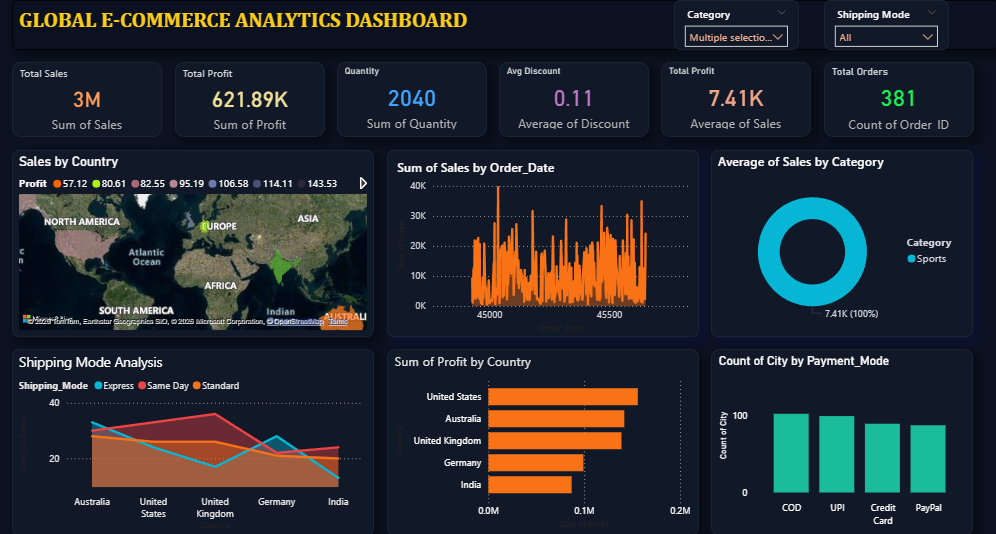

Layout of this report page (visuals, bound fields, positions):
{"tool":"powerbi","page":{"name":"Page 1","canvas":[1280,720],"ordinal":0},"visuals":[{"type":"textbox","box":[16,0,1264,64],"z":0},{"type":"card","title":"Total Sales","fields":{"Values":["Sum(Sales_Data.Sales)"]},"box":[16,80,192,96],"z":1000},{"type":"card","title":"Total Profit","fields":{"Values":["Sum(Sales_Data.Profit)"]},"box":[224,80,192,96],"z":2000},{"type":"card","title":"Total Profit","fields":{"Values":["Sum(Sales_Data.Profit)"]},"box":[848,80,192,96],"z":3000},{"type":"card","title":"Avg Discount","fields":{"Values":["Avg(Sales_Data.Discount)"]},"box":[640,80,192,96],"z":4000},{"type":"card","title":"Total Orders","fields":{"Values":["CountNonNull(Sales_Data.Order_ID)"]},"box":[1056,80,192,96],"z":5000},{"type":"card","title":"Quantity","fields":{"Values":["Sum(Sales_Data.Quantity)"]},"box":[432,80,192,96],"z":6000},{"type":"lineChart","fields":{"Category":["Sales_Data.Order_Date"],"Y":["Sum(Sales_Data.Sales)"]},"box":[496,192,400,240],"z":7000},{"type":"donutChart","fields":{"Category":["Sales_Data.Category"],"Y":["Avg(Sales_Data.Sales)"]},"box":[912,192,336,240],"z":8000},{"type":"areaChart","title":"Shipping Mode Analysis","fields":{"Y":["CountNonNull(Sales_Data.Sales)"],"Category":["Sales_Data.Country"],"Series":["Sales_Data.Shipping_Mode"]},"box":[16,448,464,240],"z":9000},{"type":"barChart","fields":{"Category":["Sales_Data.Country"],"Y":["Sum(Sales_Data.Profit)"]},"box":[496,448,400,240],"z":10000},{"type":"slicer","fields":{"Values":["Sales_Data.Category"]},"box":[864,0,160,64],"z":11000},{"type":"slicer","fields":{"Values":["Sales_Data.Shipping_Mode"]},"box":[1056,0,160,64],"z":12000},{"type":"lineStackedColumnComboChart","fields":{"Category":["Sales_Data.Payment_Mode"],"Y":["CountNonNull(Sales_Data.City)"]},"box":[912,448,336,240],"z":13000},{"type":"filledMap","title":"Sales by Country","fields":{"Category":["Sales_Data.Country"],"Series":["Sales_Data.Profit"]},"box":[16,192,464,240],"z":14000}]}

Visuals, with their boxes on the page's 1280x720 design canvas (x1, y1, x2, y2). These are canvas units, not pixel positions in the 996x534 screenshot, which may show the page scaled, cropped or inside an application window:
textbox: box(16, 0, 1280, 64)
"Total Sales" card: box(16, 80, 208, 176)
"Total Profit" card: box(224, 80, 416, 176)
"Total Profit" card: box(848, 80, 1040, 176)
"Avg Discount" card: box(640, 80, 832, 176)
"Total Orders" card: box(1056, 80, 1248, 176)
"Quantity" card: box(432, 80, 624, 176)
lineChart - Sales_Data.Order_Date x Sum(Sales_Data.Sales): box(496, 192, 896, 432)
donutChart - Sales_Data.Category x Avg(Sales_Data.Sales): box(912, 192, 1248, 432)
"Shipping Mode Analysis" areaChart: box(16, 448, 480, 688)
barChart - Sales_Data.Country x Sum(Sales_Data.Profit): box(496, 448, 896, 688)
slicer - Sales_Data.Category: box(864, 0, 1024, 64)
slicer - Sales_Data.Shipping_Mode: box(1056, 0, 1216, 64)
lineStackedColumnComboChart - Sales_Data.Payment_Mode x CountNonNull(Sales_Data.City): box(912, 448, 1248, 688)
"Sales by Country" filledMap: box(16, 192, 480, 432)
